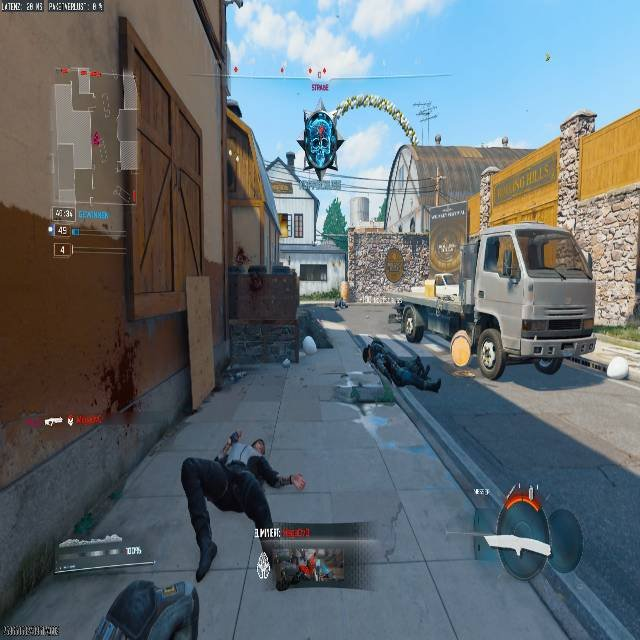head: (223, 430, 247, 452)
player: (180, 427, 306, 585)
